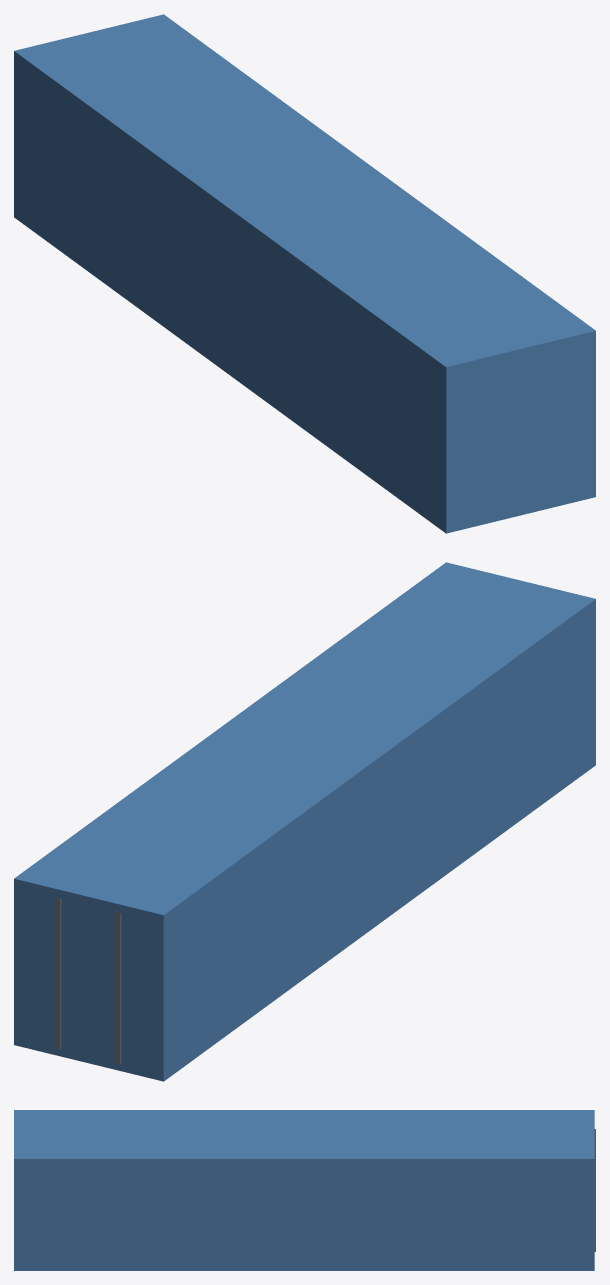
3 renders of one model, top to bottom at view 1: azimuth 30°, elevation 25°; view 2: azimuth 150°, elevation 25°; view 3: azimuth 270°, elevation 25°, orthographic. The views are drawn at different scales.
Parts seen in each view (by area): view 1: 413; view 2: 413; view 3: 413.
Part boxes in pixels (box(x1,y1,x2,y2)): 413: box(14, 14, 595, 533); 413: box(14, 562, 595, 1081); 413: box(14, 1110, 595, 1270).
Size of the model in its own units: 2.44 by 2.59 by 12.22.
